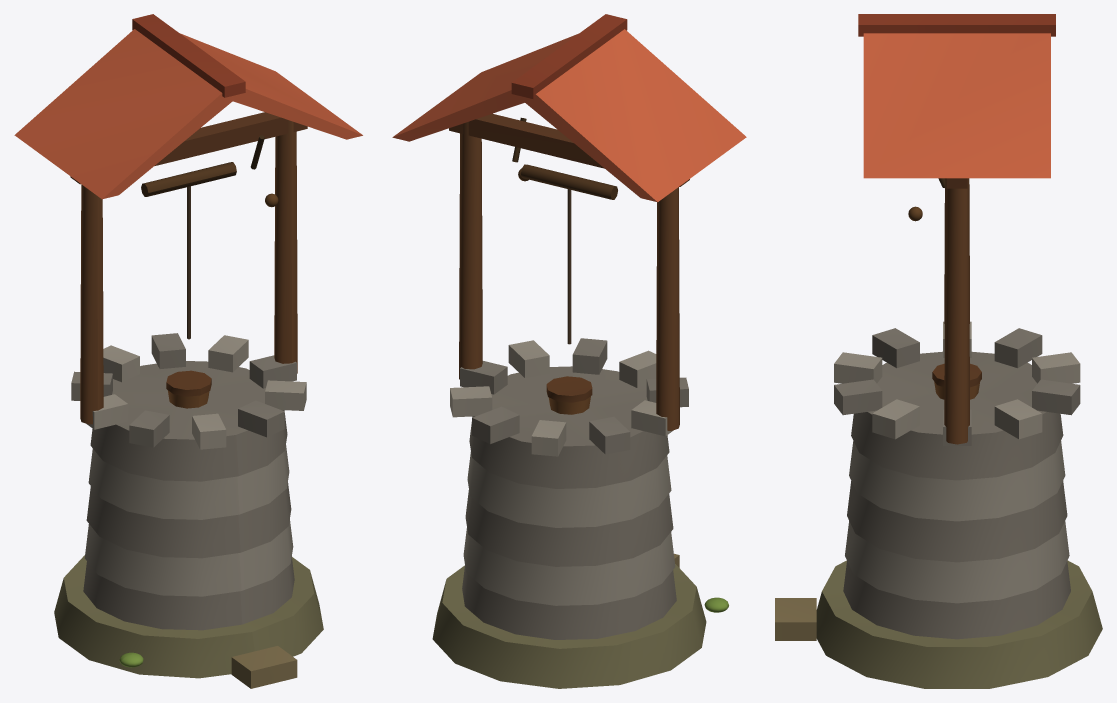
File: village-well.glb
3 renders of one model, left to right at view 1: azimuth 30°, elevation 25°; view 2: azimuth 150°, elevation 25°; view 3: azimuth 270°, elevation 25°, orthographic. The views are drawn at different scales.
Parts seen in each view (by area): view 1: well-roof, moss-ring, well-ring-4, well-ring-1, well-ring-2, well-ring-3, well-ring-0, post-right, post-left, crossbeam, well-ridge, step-stone (+12 smaller); view 2: well-roof, moss-ring, well-ring-4, well-ring-1, well-ring-2, well-ring-3, well-ring-0, post-right, post-left, crossbeam, well-ridge, spindle (+11 smaller); view 3: well-roof, moss-ring, well-ring-4, well-ring-1, well-ring-2, well-ring-3, well-ring-0, post-right, well-ridge, step-stone, coping-2, coping-8 (+6 smaller).
Part boxes in pixels (box(x1,y1,x2,y2)): well-roof: box(14, 29, 362, 199); moss-ring: box(54, 555, 323, 678); well-ring-4: box(90, 361, 287, 481); well-ring-1: box(84, 519, 293, 596); well-ring-2: box(86, 482, 291, 558); well-ring-3: box(88, 445, 289, 519); well-ring-0: box(83, 556, 294, 630); post-right: box(274, 120, 297, 373); post-left: box(80, 184, 103, 424); crossbeam: box(70, 112, 307, 184); well-ridge: box(132, 14, 245, 97); step-stone: box(231, 646, 297, 688); well-roof: box(392, 29, 746, 202); moss-ring: box(432, 564, 706, 688); well-ring-4: box(469, 366, 669, 488); well-ring-1: box(463, 528, 675, 605); well-ring-2: box(465, 490, 673, 566); well-ring-3: box(467, 452, 671, 527); well-ring-0: box(462, 566, 676, 639); post-right: box(459, 122, 482, 379); post-left: box(656, 187, 679, 430); crossbeam: box(449, 113, 689, 186); well-ridge: box(511, 14, 627, 98); spindle: box(521, 164, 617, 199); well-roof: box(863, 33, 1050, 178); moss-ring: box(816, 560, 1102, 688); well-ring-4: box(851, 351, 1063, 480); well-ring-1: box(845, 521, 1069, 603); well-ring-2: box(847, 481, 1067, 562); well-ring-3: box(849, 441, 1065, 521); well-ring-0: box(843, 561, 1070, 639); post-right: box(944, 178, 969, 444); well-ridge: box(858, 14, 1055, 36); step-stone: box(775, 598, 816, 640); coping-2: box(834, 379, 882, 415); coping-8: box(1032, 379, 1080, 415).
Bounding box in the file's own units: 1.24 × 2.59 × 1.26.
